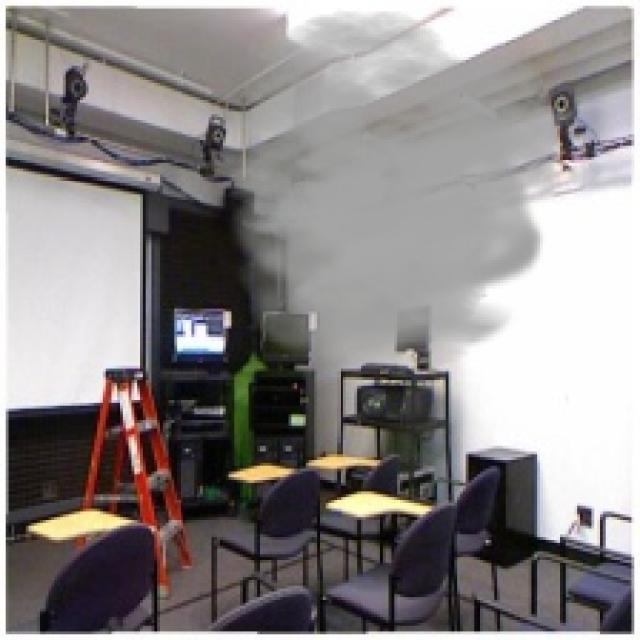Smoke: (182, 9, 578, 372)
